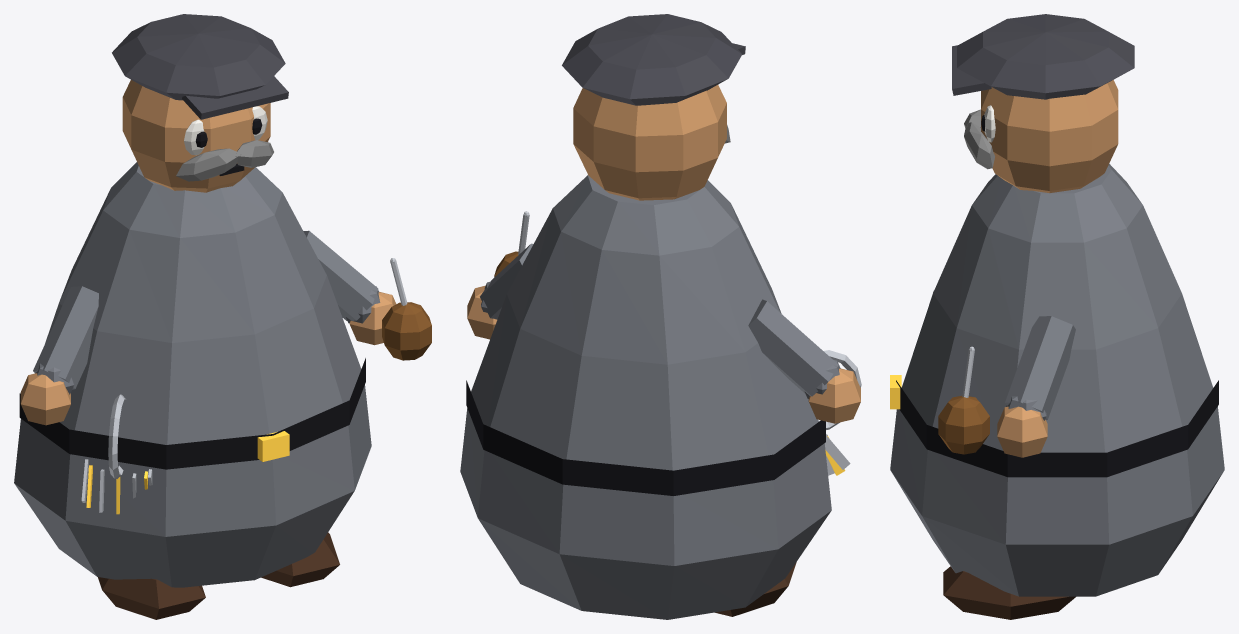
Rendered from npc_evaristo.glb.
The picture shows the model from 3 angles, left to right: view 1: azimuth 30°, elevation 25°; view 2: azimuth 150°, elevation 25°; view 3: azimuth 270°, elevation 25°; orthographic projection. The views are drawn at different scales.
Parts seen in each view (by area): view 1: body_manager_overall, cap_flat_cap (×2), head_skin_arena, body_black, arms_manager_overall, legs_boots_brown, arms_skin_arena, props_mate_gourd, face_hair_grey, props_keys_steel, body_gold, face_white; view 2: body_manager_overall, head_skin_arena, cap_flat_cap, body_black, arms_manager_overall, arms_skin_arena, props_keys_steel, legs_boots_brown; view 3: body_manager_overall, cap_flat_cap (×2), head_skin_arena, body_black, arms_manager_overall, legs_boots_brown, props_mate_gourd, arms_skin_arena, face_hair_grey.
Part boxes in pixels (x1,y1,x2,y2): body_manager_overall: [14, 162, 371, 587]; cap_flat_cap (×2): [112, 14, 288, 119]; head_skin_arena: [122, 80, 270, 192]; body_black: [19, 358, 365, 469]; arms_manager_overall: [33, 230, 380, 394]; legs_boots_brown: [98, 532, 339, 619]; arms_skin_arena: [20, 292, 396, 425]; props_mate_gourd: [382, 302, 431, 360]; face_hair_grey: [176, 140, 273, 181]; props_keys_steel: [81, 394, 152, 512]; body_gold: [257, 431, 289, 461]; face_white: [184, 106, 267, 155]; body_manager_overall: [460, 175, 831, 619]; head_skin_arena: [573, 85, 726, 200]; cap_flat_cap: [562, 14, 742, 105]; body_black: [466, 380, 825, 495]; arms_manager_overall: [480, 243, 840, 398]; arms_skin_arena: [467, 285, 860, 423]; props_keys_steel: [819, 350, 861, 475]; legs_boots_brown: [715, 562, 796, 616]; body_manager_overall: [890, 163, 1224, 596]; cap_flat_cap (×2): [952, 14, 1134, 99]; head_skin_arena: [981, 80, 1118, 193]; body_black: [896, 380, 1218, 477]; arms_manager_overall: [1005, 316, 1075, 420]; legs_boots_brown: [943, 566, 1075, 619]; props_mate_gourd: [938, 395, 989, 454]; arms_skin_arena: [997, 406, 1047, 457]; face_hair_grey: [964, 109, 994, 169].
Size of the model in its own units: 1.13 by 1.55 by 0.86.
